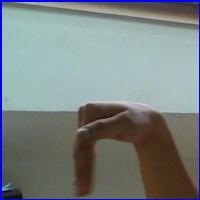A: (70, 93, 167, 190)
